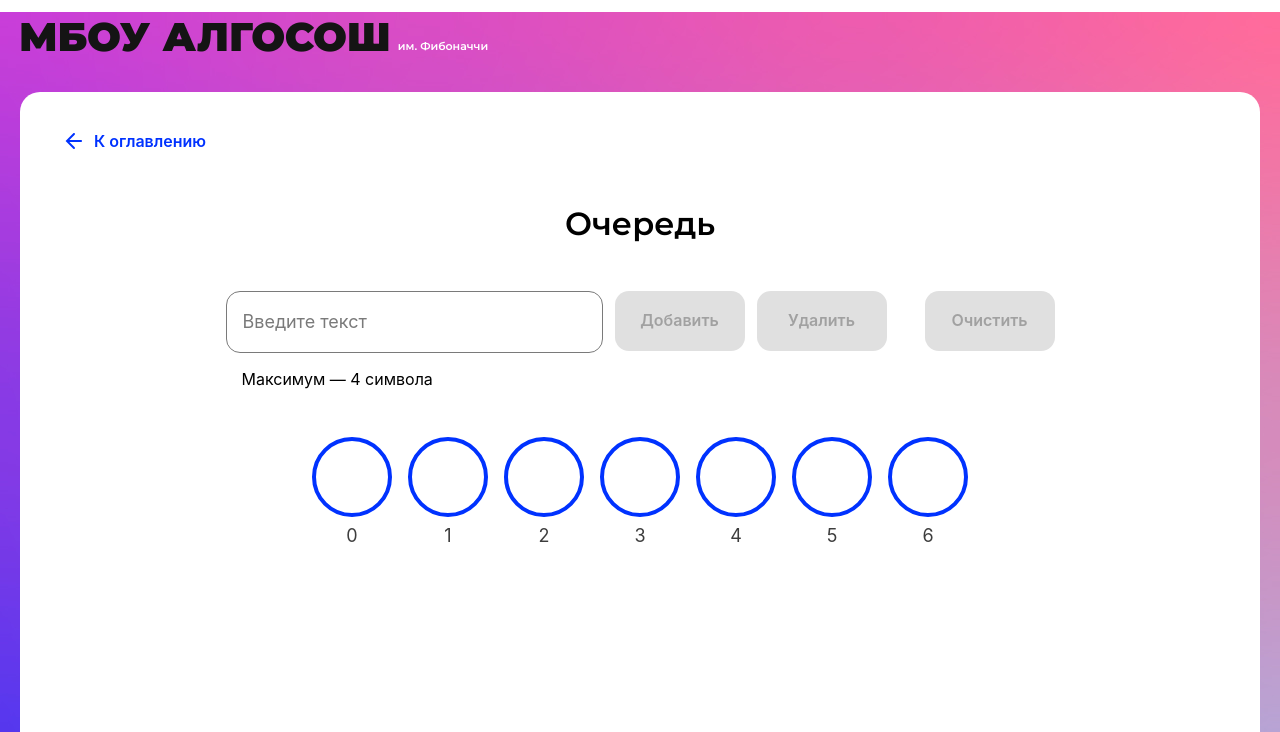
Test: queue functionality works correctly › adding elements to queue works properly
The width and height of the screenshot is (1280, 732).
In the field with test id "input": (415, 322) [226,291,603,353], type "13"
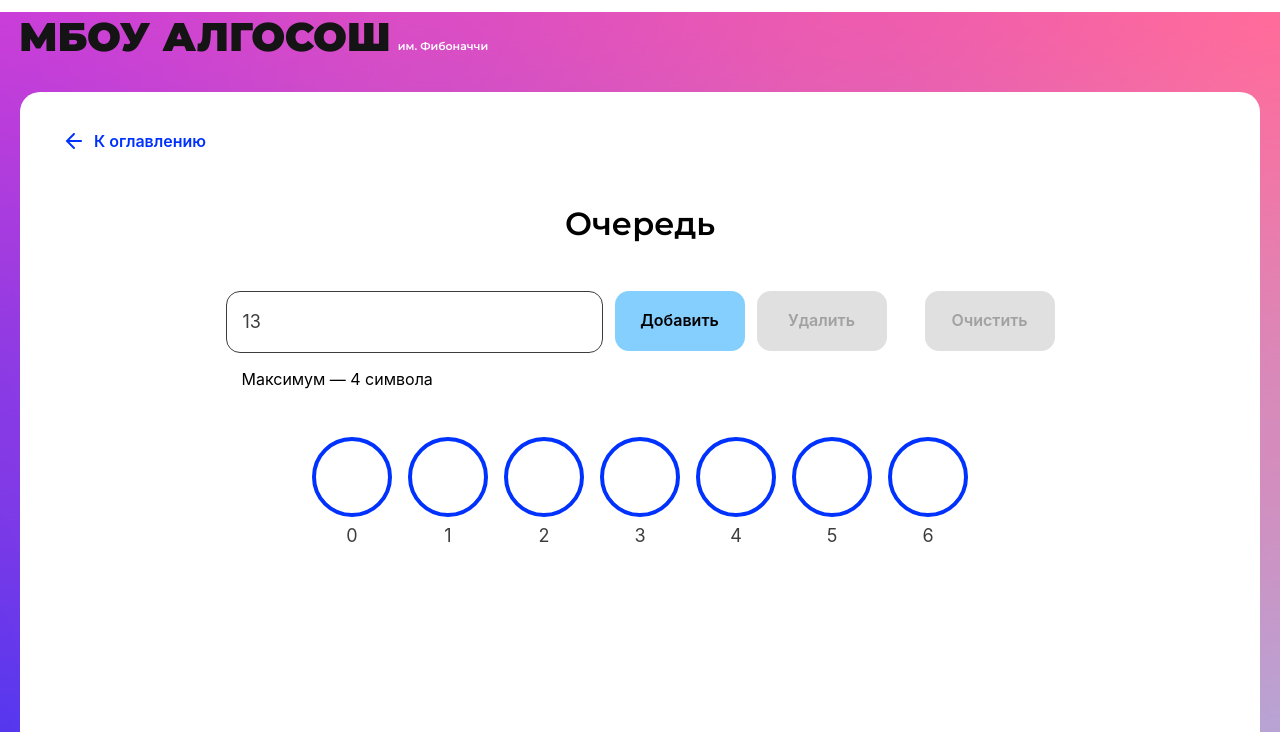
Expected: the element with test id "add-button" is enabled
Click the button with test id "add-button": (680, 321) [615,291,745,351]
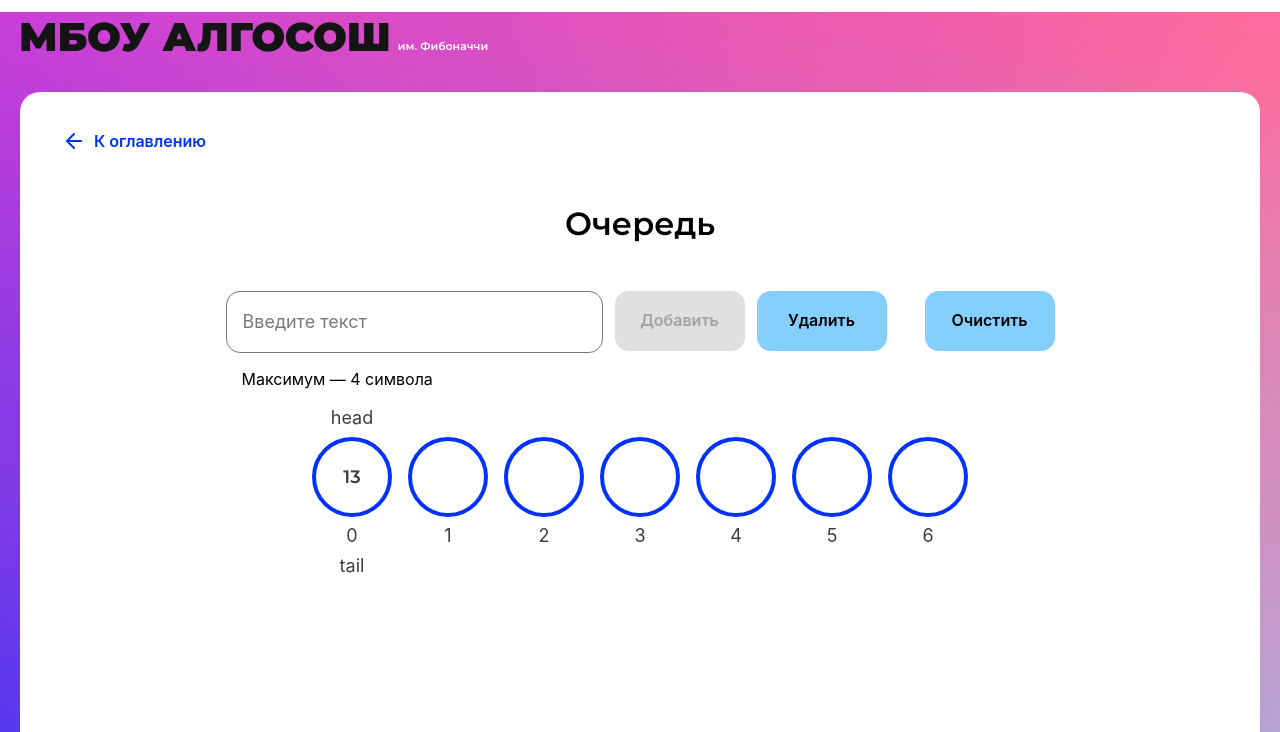
Now the element with test id "circle" reads "13", box [312,437,392,517]
In the field with test id "input": (415, 322) [226,291,603,353], type "34"
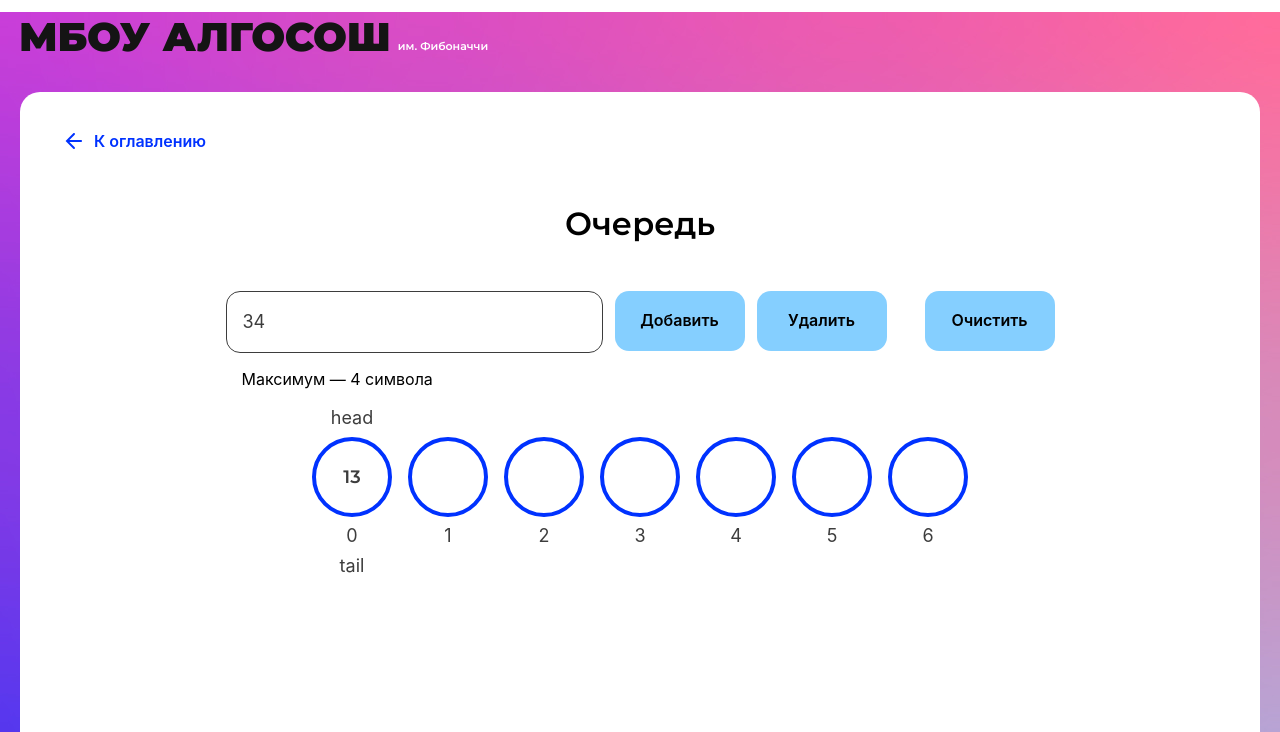
Expected: the element with test id "add-button" is enabled
Click the button with test id "add-button": (680, 321) [615,291,745,351]
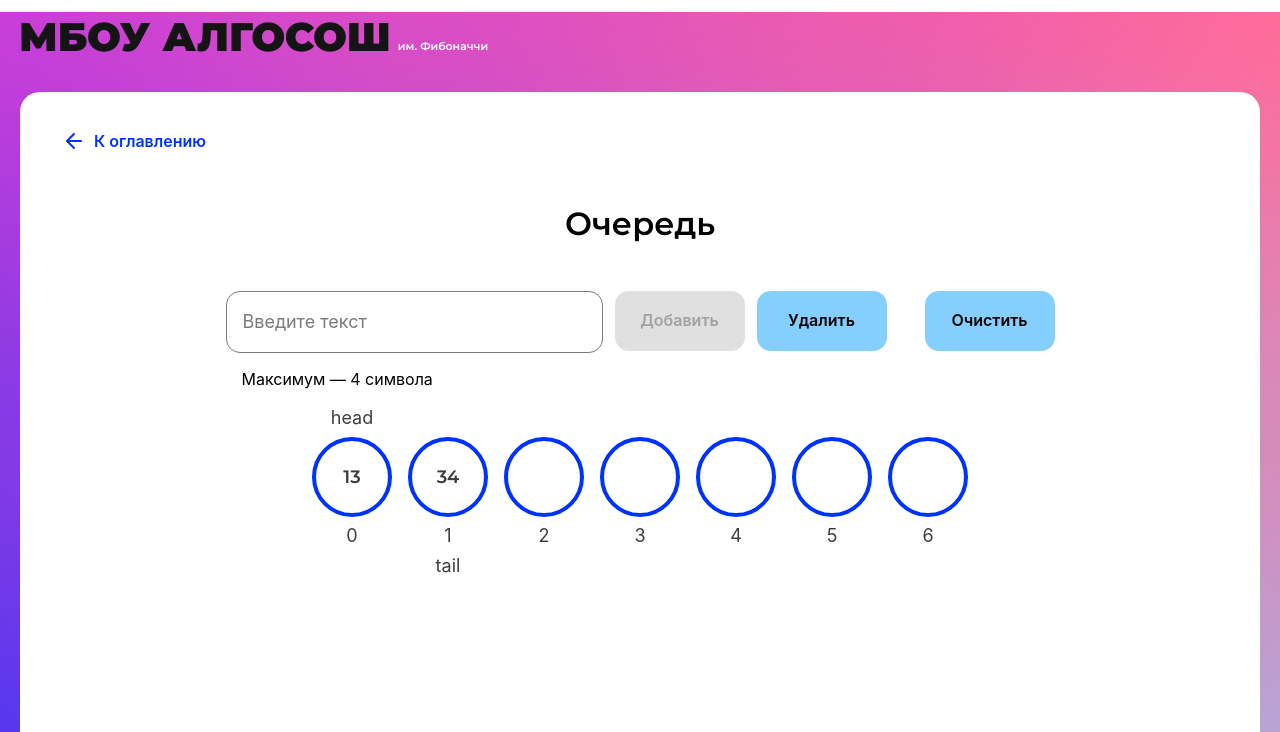
Now the element with test id "circle" reads "34", box [408,437,488,517]
In the field with test id "input": (415, 322) [226,291,603,353], type "55"
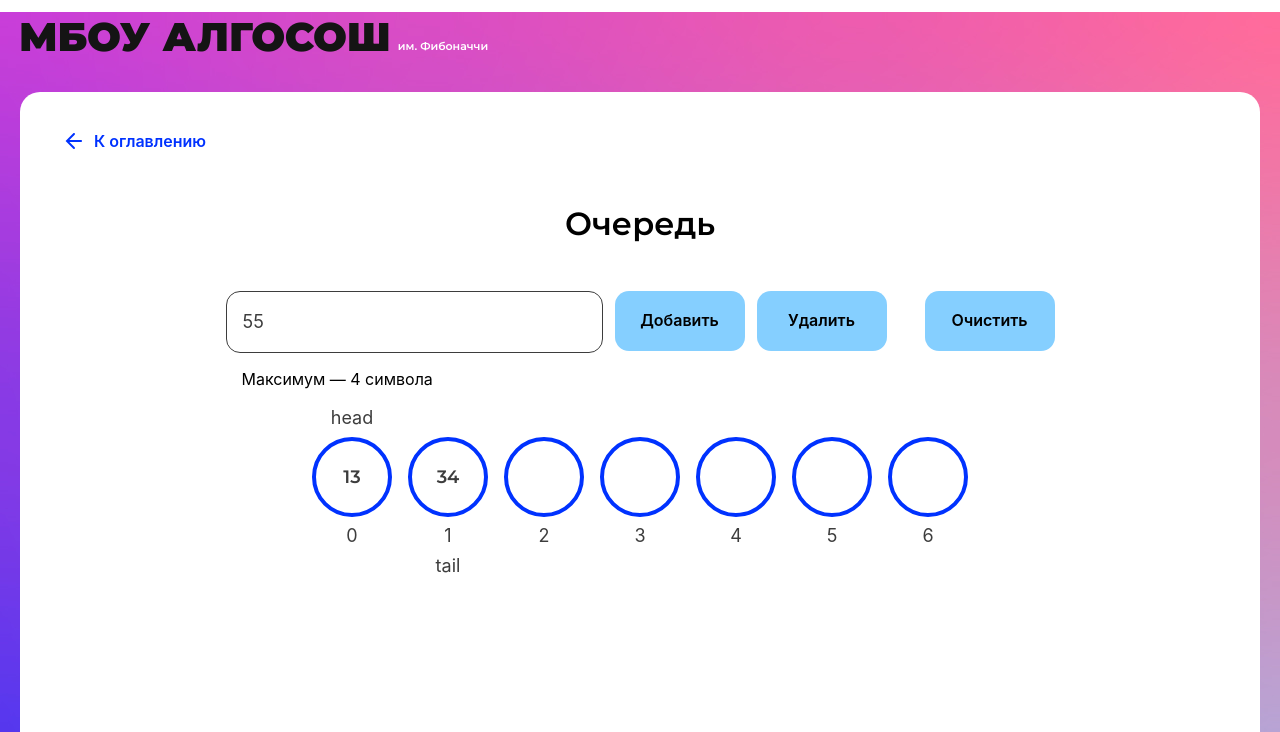
Expected: the element with test id "add-button" is enabled
Click the button with test id "add-button": (680, 321) [615,291,745,351]
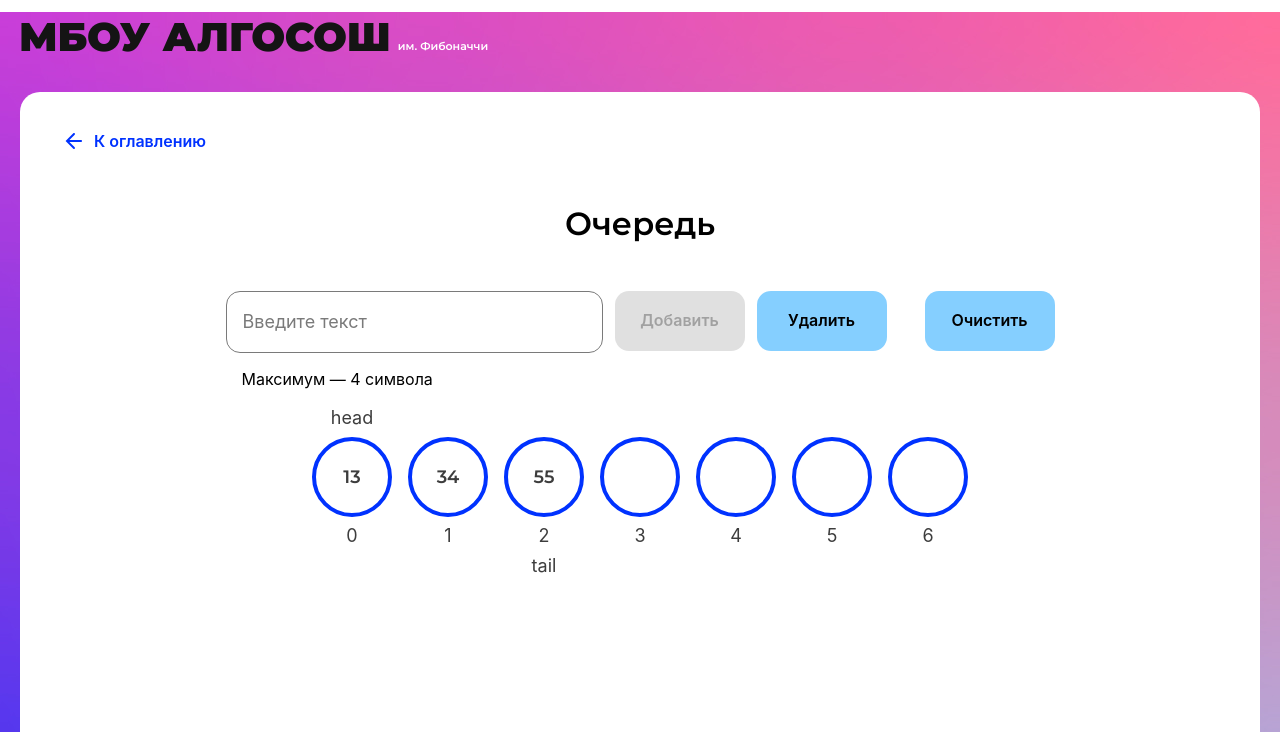
Now the text with test id "head" reads "head", box [331,407,374,429]
Now the text with test id "tail" reads "tail", box [532,555,557,577]
Now the element with test id "circle" reads "55", box [504,437,584,517]
